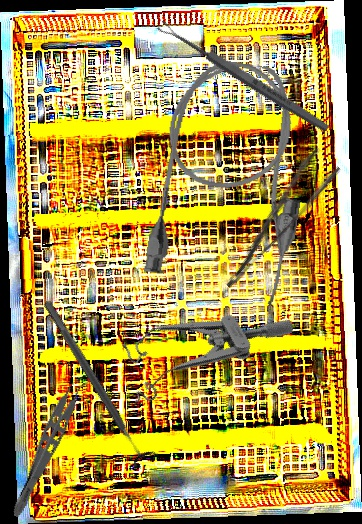Cannula: (141, 53, 321, 307)
Dressing Forceps: (205, 146, 344, 291)
Fixation Ring: (33, 293, 161, 473)
Speculum: (107, 266, 296, 418)
Surgical Spoon: (156, 18, 331, 135)
Tissue Forceps: (8, 370, 93, 524)
